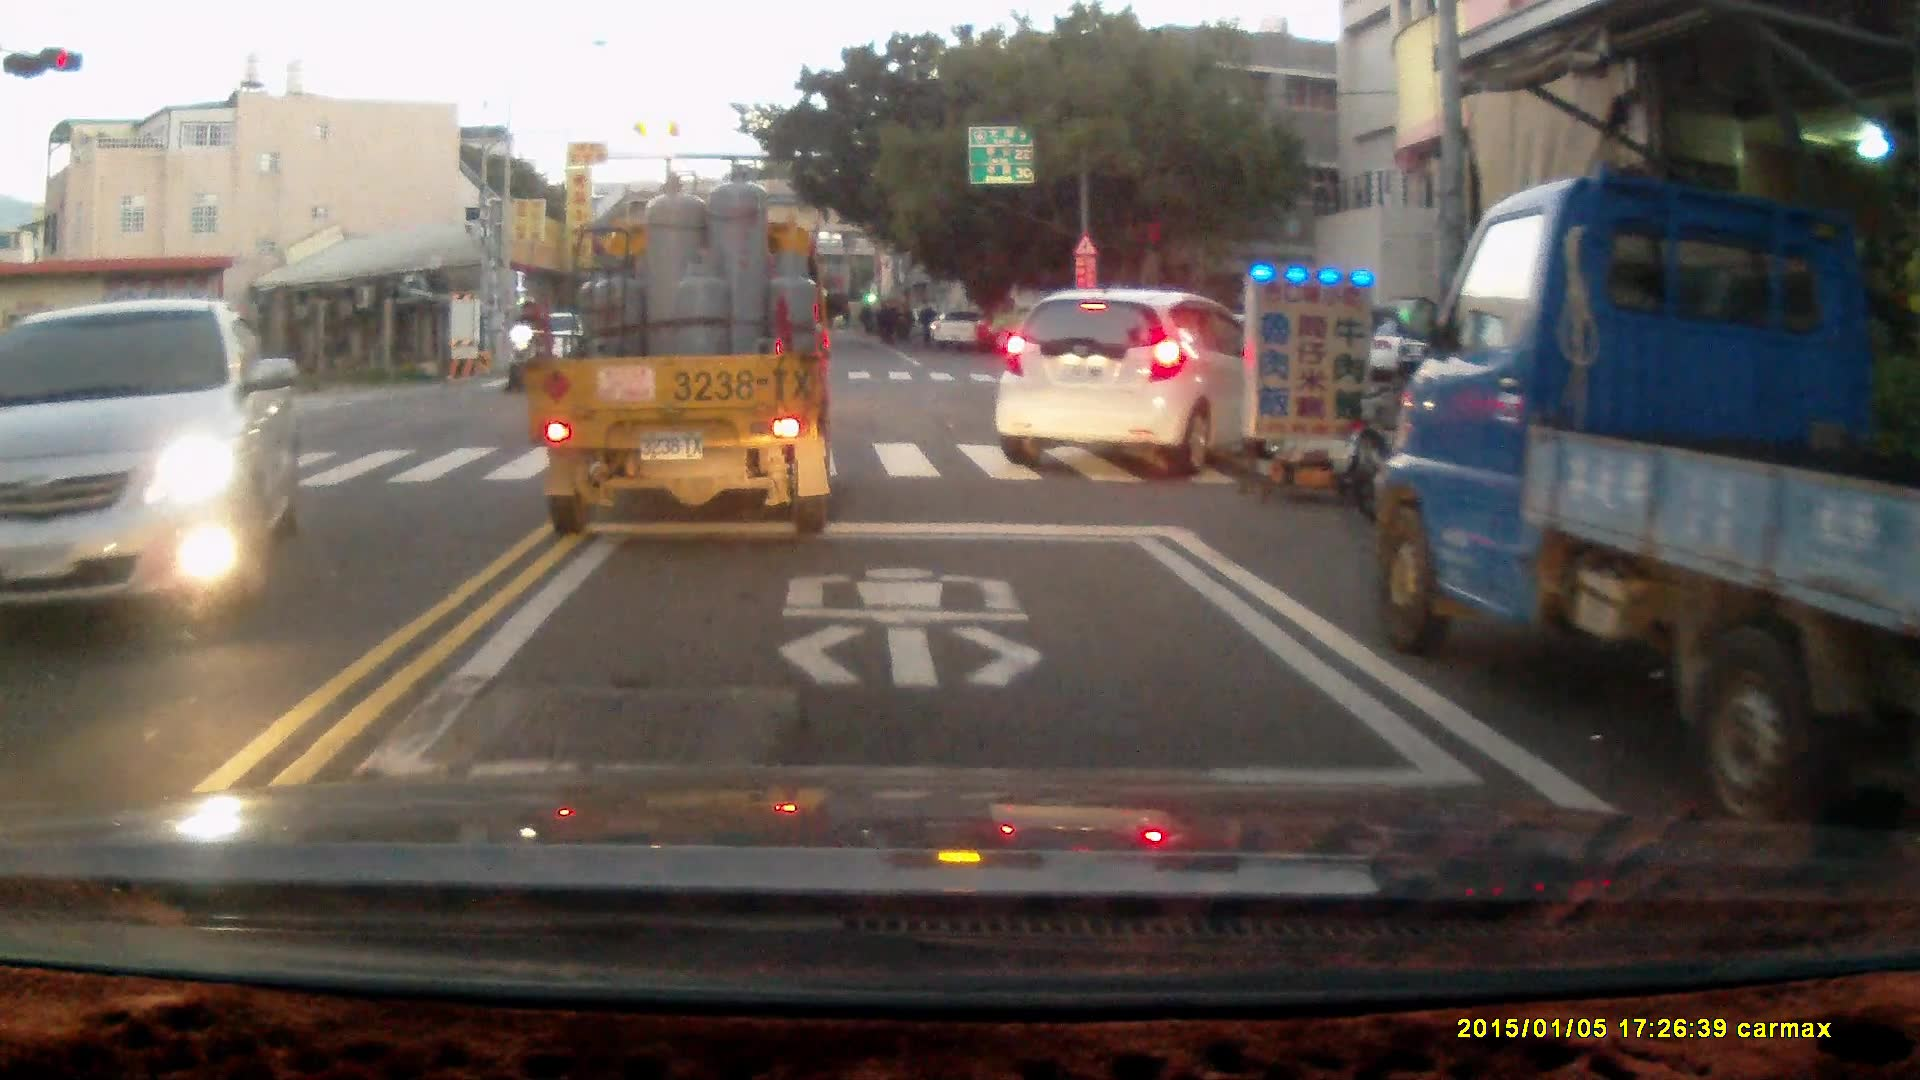rider: (504, 298, 553, 393)
vehicle: (1363, 179, 1920, 812), (515, 165, 835, 539), (1, 296, 301, 627), (993, 287, 1263, 470)
